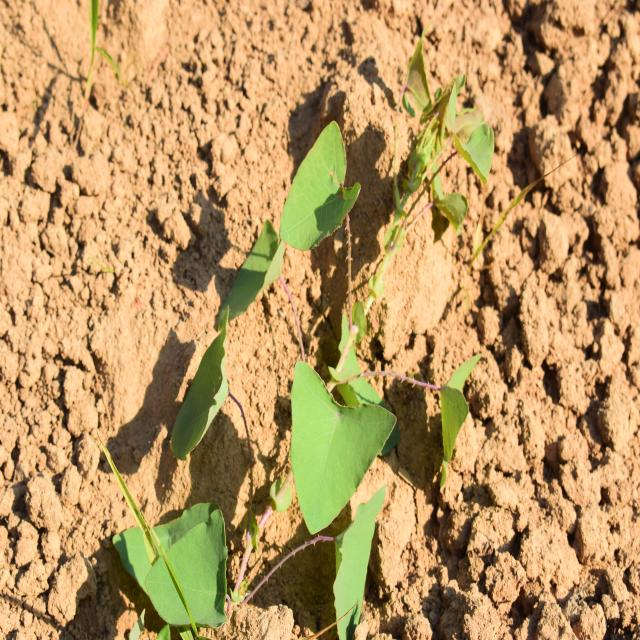Asiatic_Smartweed: (212, 124, 361, 315), (288, 354, 388, 620), (119, 489, 228, 631), (170, 292, 232, 460)
